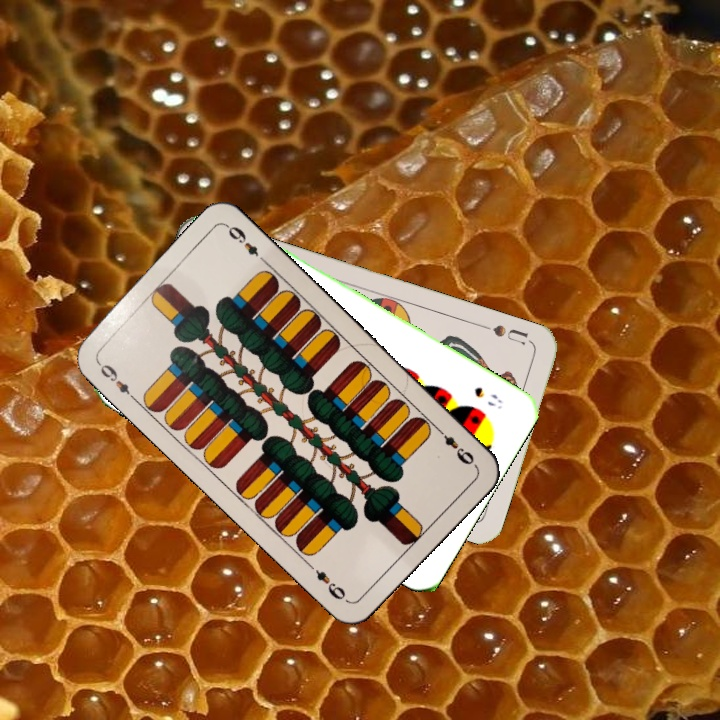E9: (93, 357, 139, 403), (432, 423, 477, 468)
S8: (470, 382, 505, 412)
SU: (477, 320, 531, 348)
